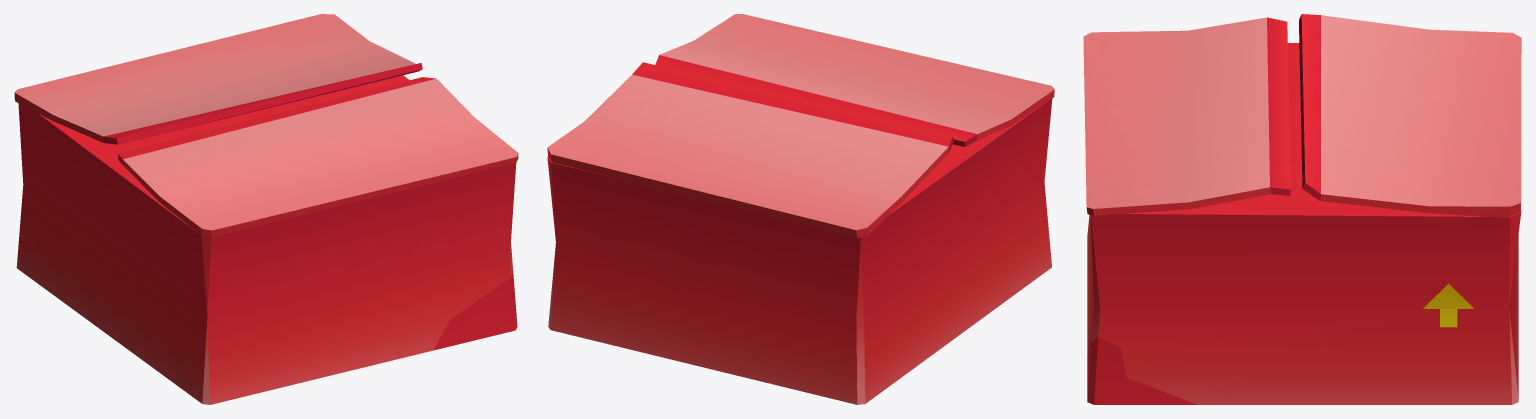
File: Luggage_Pack_1C.fbx
3 renders of one model, left to right at view 1: azimuth 30°, elevation 25°; view 2: azimuth 150°, elevation 25°; view 3: azimuth 270°, elevation 25°, orthographic. The views are drawn at different scales.
Parts seen in each view (by area): view 1: Luggage_Pack_1C; view 2: Luggage_Pack_1C; view 3: Luggage_Pack_1C.
Boxes of the visible parts, box(x1,y1,x2,y2) form: Luggage_Pack_1C: box(14, 14, 518, 404); Luggage_Pack_1C: box(547, 14, 1054, 404); Luggage_Pack_1C: box(1083, 14, 1521, 404).
Bounding box in the file's own units: 193 × 113 × 203.
